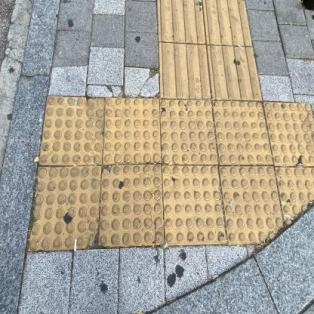Podoctatil: (22, 87, 314, 253), (146, 0, 272, 102)
